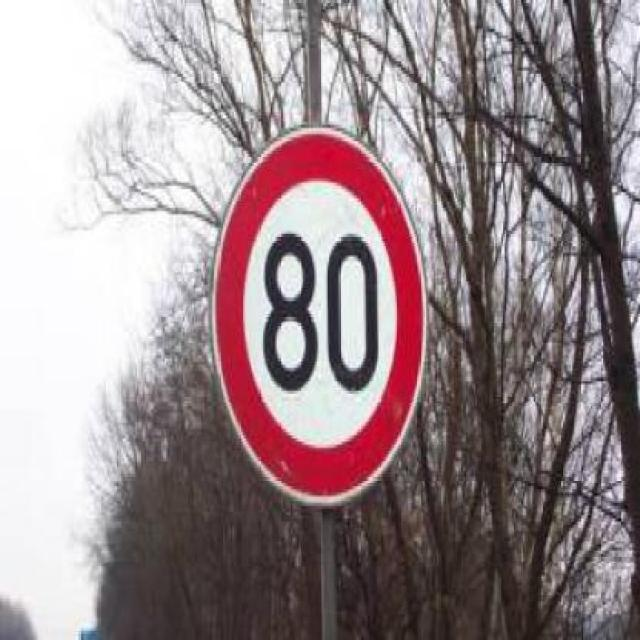forb_speed_over_80: (226, 160, 412, 477)
